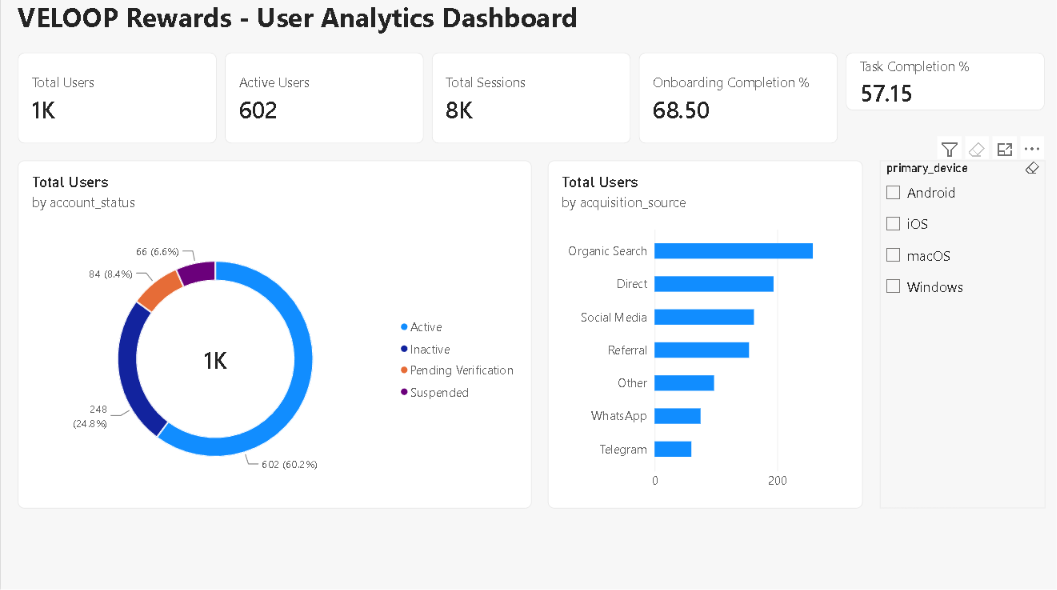

What the dashboard file says about the page in this screenshot:
{"tool":"powerbi","page":{"name":"Page 1","canvas":[1920,1080],"ordinal":0},"visuals":[{"type":"cardVisual","fields":{"Data":["users.Total Users"]},"box":[20,70,240,110],"z":0},{"type":"cardVisual","fields":{"Data":["users.Active Users"]},"box":[270,70,240,110],"z":1},{"type":"cardVisual","fields":{"Data":["users.Onboarding Completion %"]},"box":[770,70,240,110],"z":2},{"type":"cardVisual","fields":{"Data":["users.Total Sessions"]},"box":[520,70,240,110],"z":3},{"type":"cardVisual","fields":{"Data":["users.Task Completion %"]},"box":[1020,70,240,70],"z":4},{"type":"clusteredBarChart","fields":{"Category":["users.acquisition_source"],"Y":["users.Total Users"]},"box":[660,200,380,420],"z":5},{"type":"donutChart","fields":{"Category":["users.account_status"],"Y":["users.Total Users"]},"box":[20,200,620,420],"z":6},{"type":"slicer","fields":{"Values":["users.primary_device"]},"box":[1060,200,200,420],"z":7},{"type":"textbox","box":[20,5,1000,50],"z":8}]}

Visuals, with their boxes in screenshot pixels (x1, y1, x2, y2), scaled from the page's 1920x1080 canvas onto the 1057x590 screenshot:
cardVisual - users.Total Users: x1=11, y1=38, x2=143, y2=98
cardVisual - users.Active Users: x1=149, y1=38, x2=281, y2=98
cardVisual - users.Onboarding Completion %: x1=424, y1=38, x2=556, y2=98
cardVisual - users.Total Sessions: x1=286, y1=38, x2=418, y2=98
cardVisual - users.Task Completion %: x1=562, y1=38, x2=694, y2=76
clusteredBarChart - users.acquisition_source x users.Total Users: x1=363, y1=109, x2=573, y2=339
donutChart - users.account_status x users.Total Users: x1=11, y1=109, x2=352, y2=339
slicer - users.primary_device: x1=584, y1=109, x2=694, y2=339
textbox: x1=11, y1=3, x2=562, y2=30
